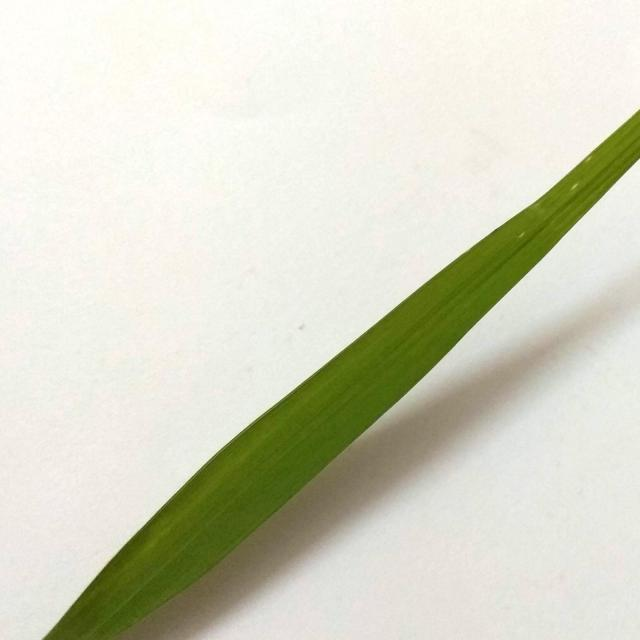healthy: (38, 7, 640, 640)
